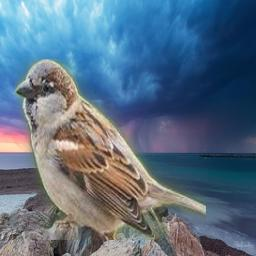Sparrow: (15, 59, 206, 240)
